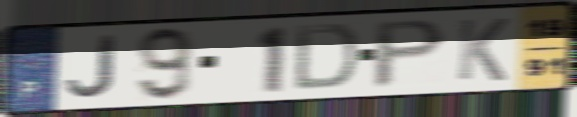1: (254, 24, 290, 95)
9: (134, 26, 195, 103)
D: (290, 22, 360, 93)
J: (63, 33, 118, 101)
K: (454, 16, 512, 83)
P: (369, 17, 450, 91)
